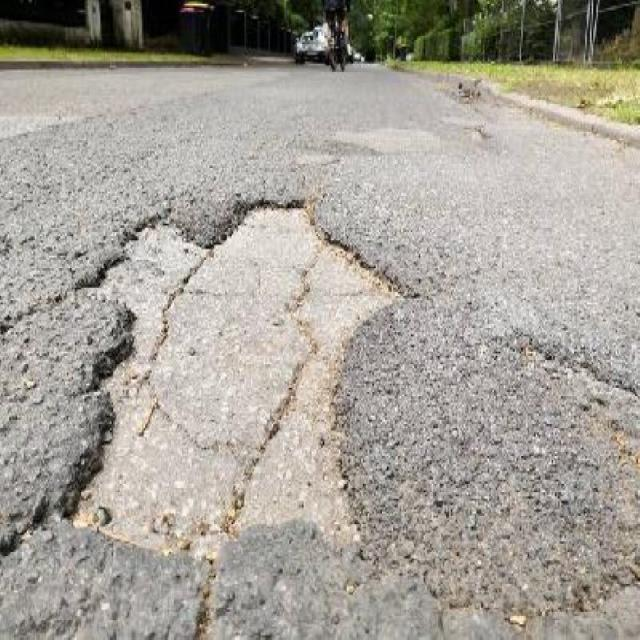pothole: (75, 207, 406, 561)
